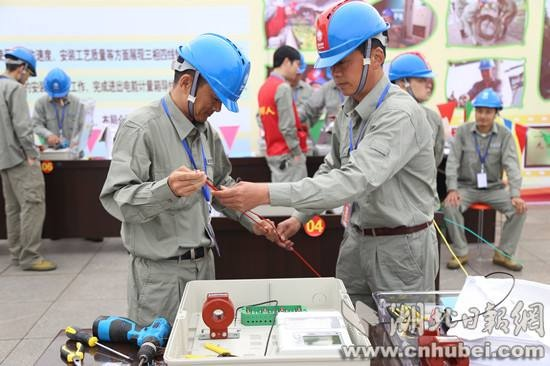blue: (168, 31, 249, 118), (315, 2, 388, 94), (388, 50, 433, 102), (470, 89, 501, 128), (3, 45, 35, 81), (42, 68, 72, 101)
none: (273, 44, 301, 82)
